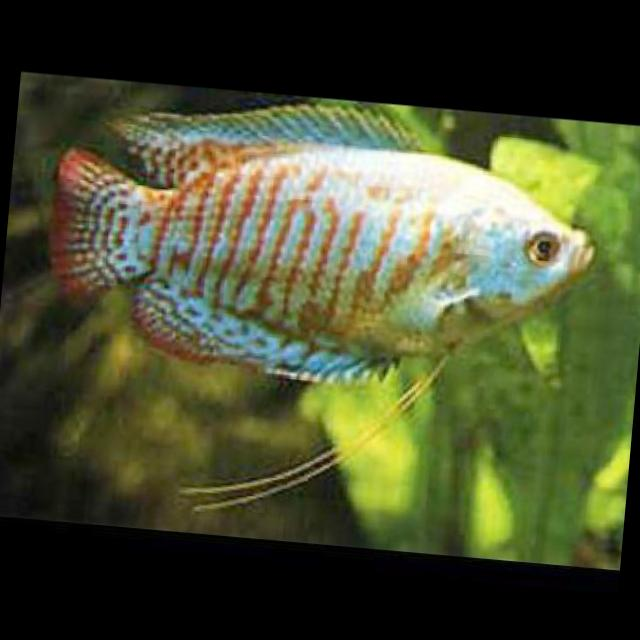Gourami: (42, 73, 609, 401)
